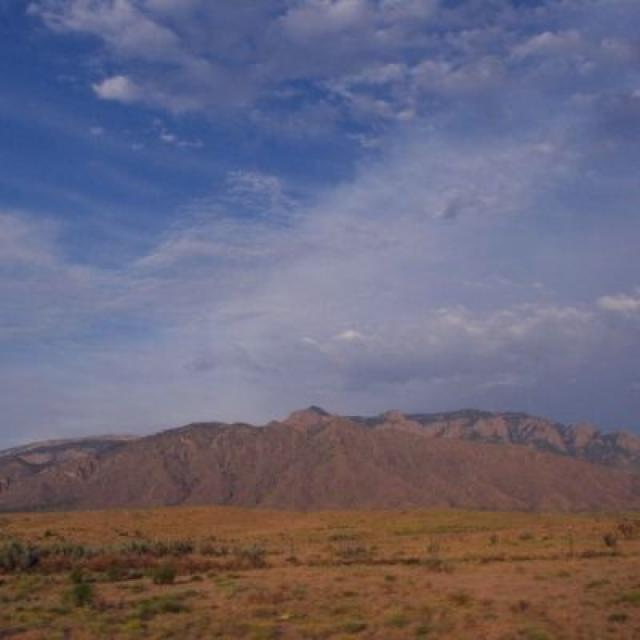Ac: (1, 8, 640, 355)
